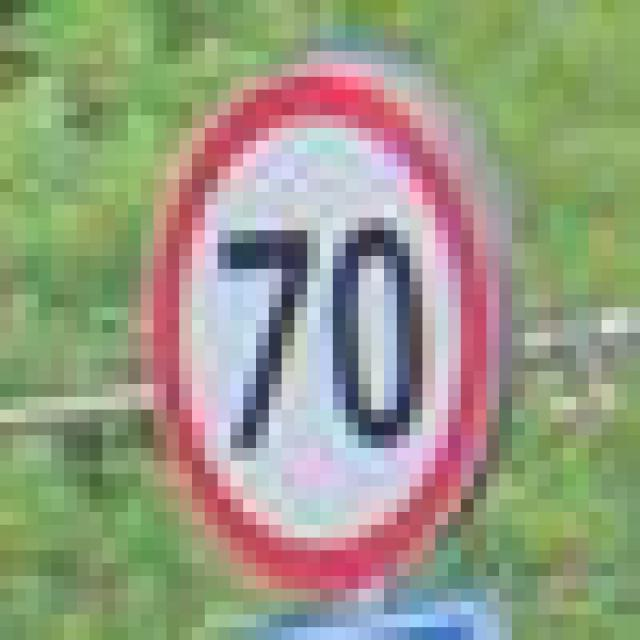SPEED_LIMIT_70: (128, 51, 486, 576)
